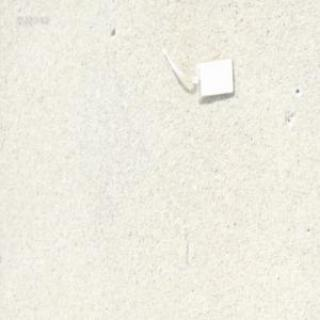LuggageTagtrack_idkeyframe: (159, 45, 237, 100)
